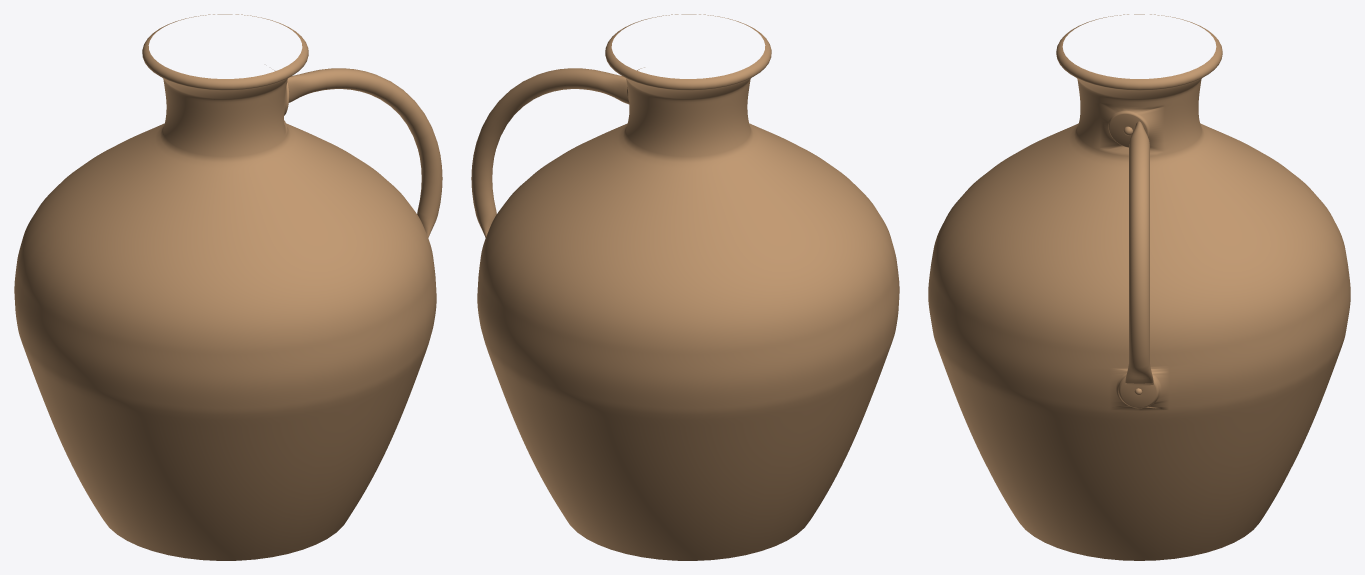
Rendered from kuvshin.glb.
3 renders of one model, left to right at view 1: azimuth 30°, elevation 25°; view 2: azimuth 150°, elevation 25°; view 3: azimuth 270°, elevation 25°, orthographic.
Parts seen in each view (by area): view 1: кувшин готовый; view 2: кувшин готовый; view 3: кувшин готовый.
Boxes of the visible parts, left/top/right/bottom form: кувшин готовый: left=14, top=14, right=442, bottom=560; кувшин готовый: left=471, top=14, right=899, bottom=560; кувшин готовый: left=928, top=14, right=1350, bottom=560.
Size of the model in its own units: 8.65 by 9.71 by 7.94.
